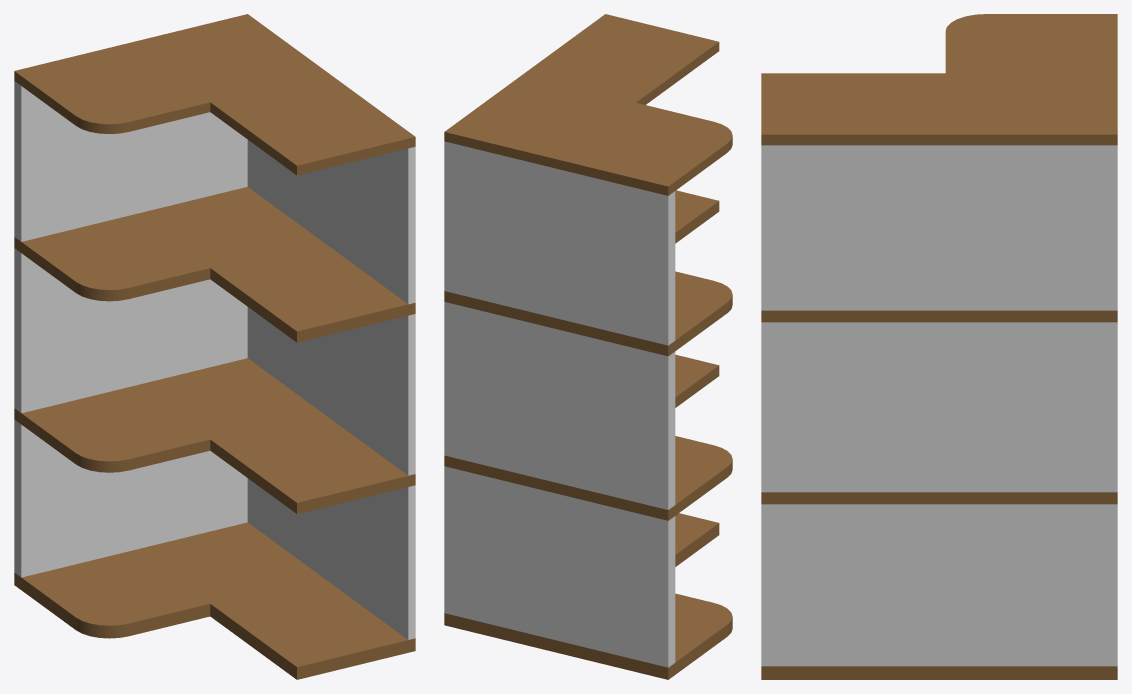
Rendered from shelves1.fbx.
3 views of the same model, side by side, from view 1: azimuth 30°, elevation 25°; view 2: azimuth 150°, elevation 25°; view 3: azimuth 270°, elevation 25° (orthographic). The views are drawn at different scales.
Parts seen in each view (by area): view 1: Shelves; view 2: Shelves; view 3: Shelves.
Part boxes in pixels (x1,y1,x2,y2): Shelves: [14, 14, 415, 679]; Shelves: [444, 14, 732, 679]; Shelves: [761, 14, 1117, 679].
Size of the model in its own units: 160 by 336 by 199.
